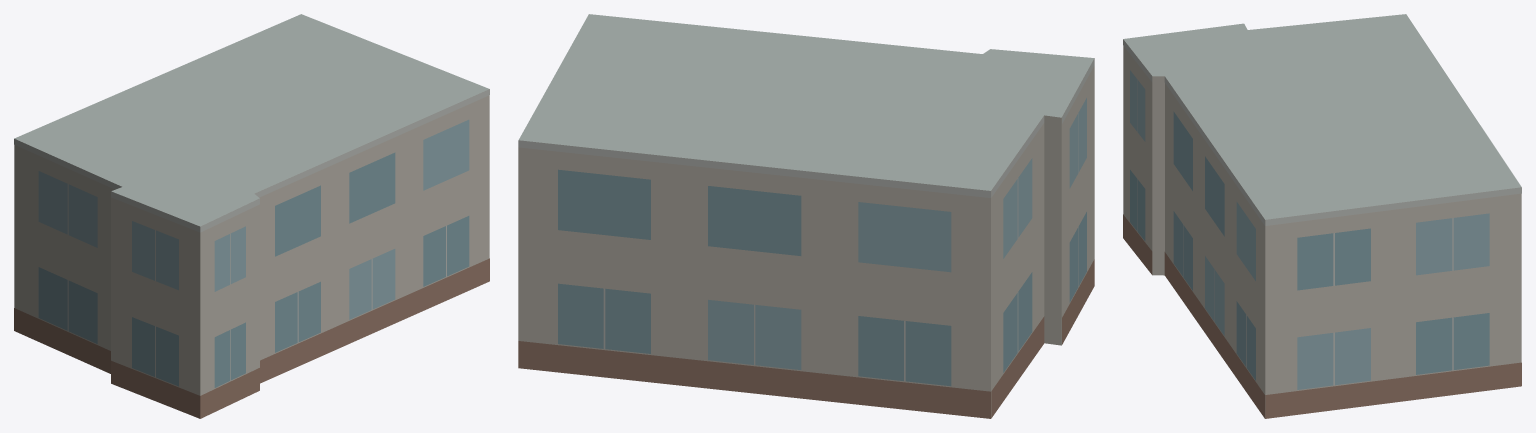
Rendered from survey-upis-32623677.glb.
The picture shows the model from 3 angles, left to right: view 1: azimuth 30°, elevation 25°; view 2: azimuth 150°, elevation 25°; view 3: azimuth 270°, elevation 25°; orthographic projection. The views are drawn at different scales.
Visible parts, largest first — view 1: survey-upis-32623677.tmp; view 2: survey-upis-32623677.tmp; view 3: survey-upis-32623677.tmp.
Part boxes in pixels (x1,y1,x2,y2): survey-upis-32623677.tmp: (14, 14, 489, 418); survey-upis-32623677.tmp: (518, 14, 1094, 418); survey-upis-32623677.tmp: (1123, 14, 1521, 418).
Bounding box in the file's own units: 17.2 × 7.75 × 14.08.
